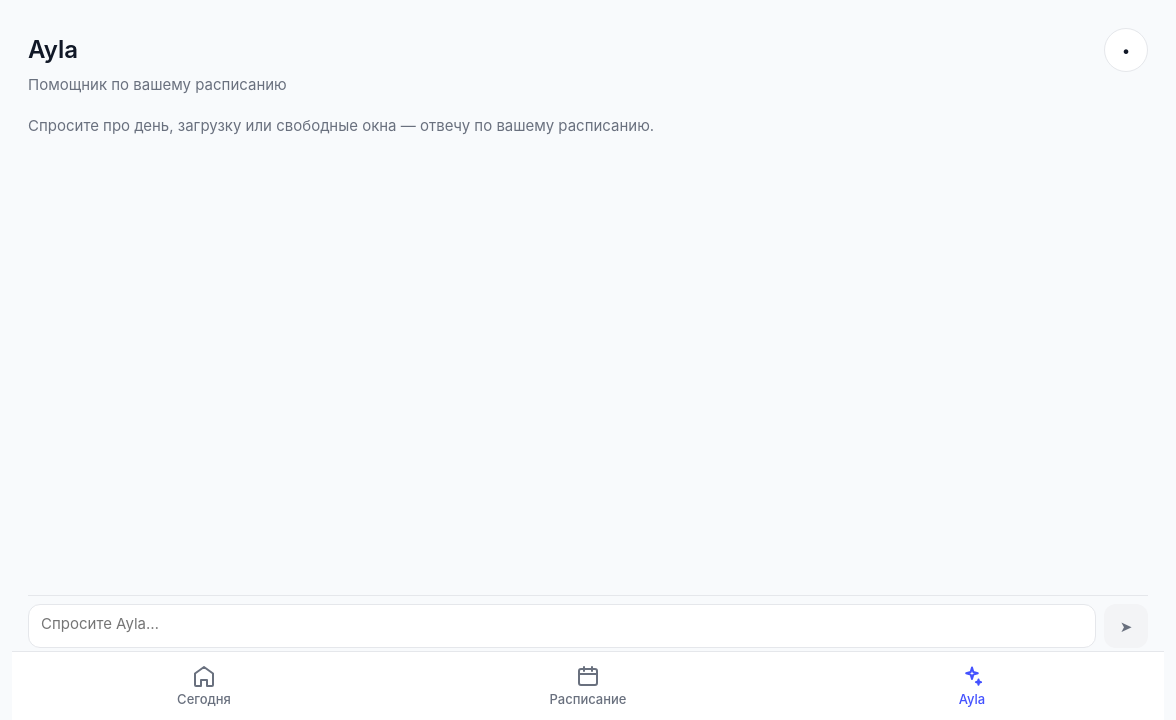
Test case: MasterAylaScreen · диалог › вопрос уходит на сервер и ответ показывается
The width and height of the screenshot is (1176, 720).
Expected: the text "Спросите про день" is shown, [28,116,654,135]
In the text box named "Вопрос к Ayla": (562, 626) [28,604,1096,648], type "когда у меня окно"
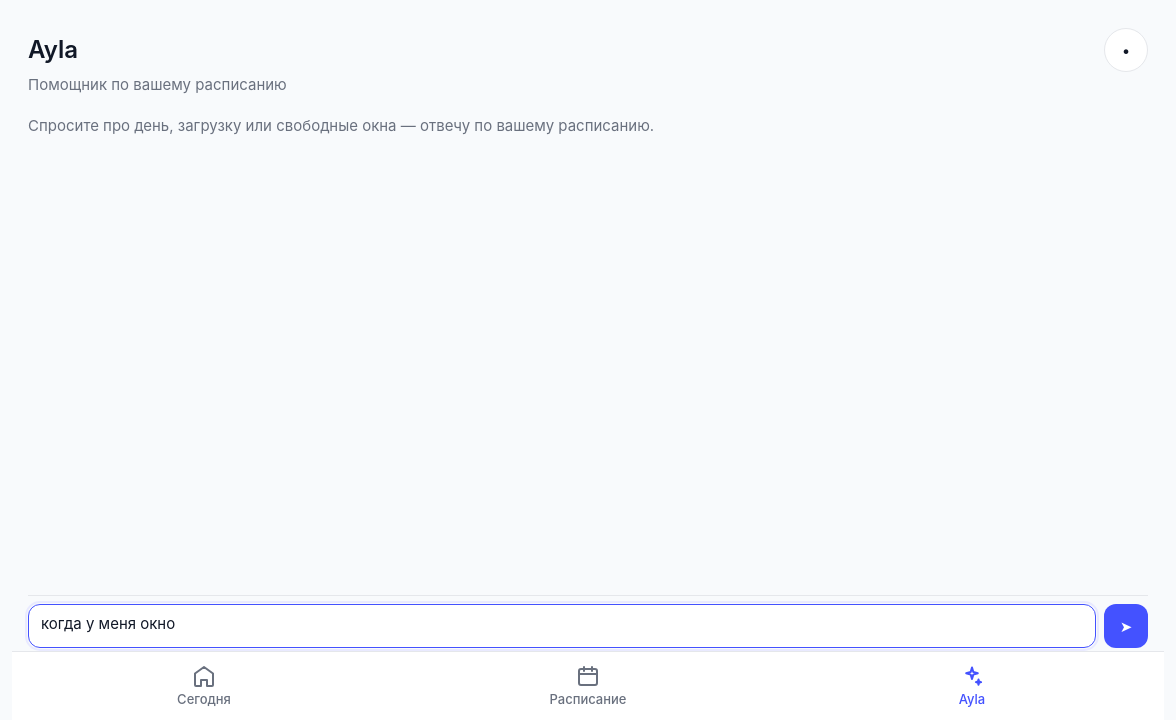
Click the button named "Отправить": click(1126, 626) [1104,604,1148,648]
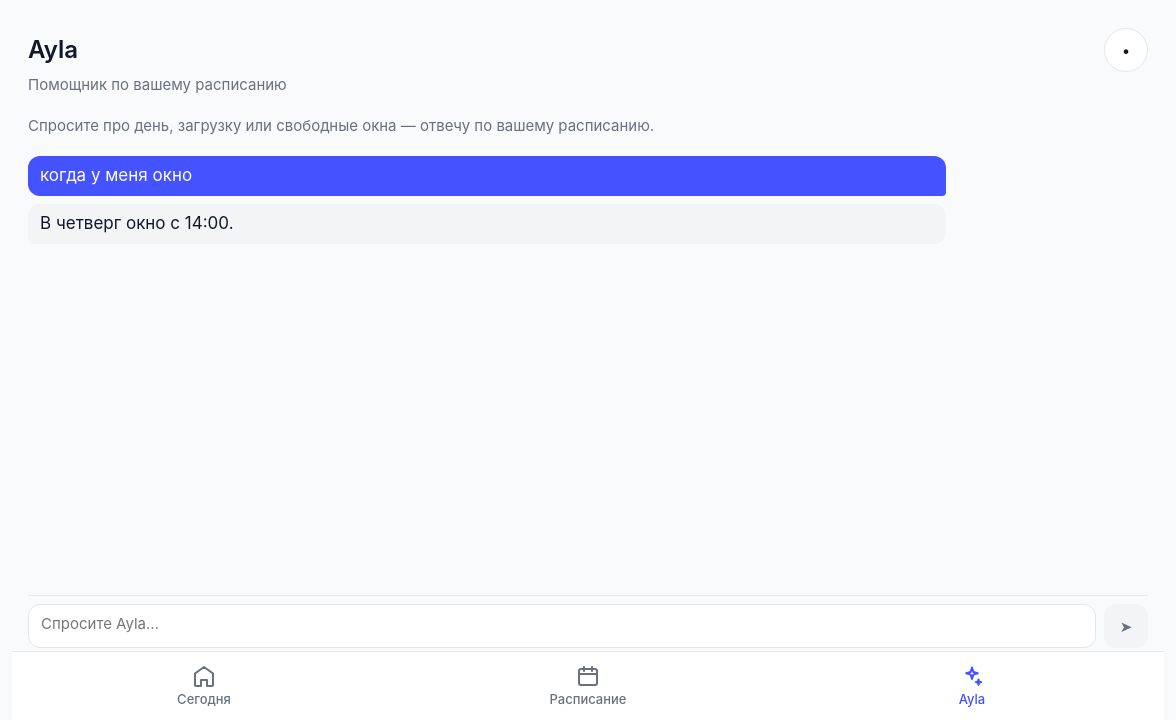
Expected: the text "В четверг окно с 14:00." is shown, [40,213,234,233]
Expected: the text "когда у меня окно" is shown, [40,165,192,185]
